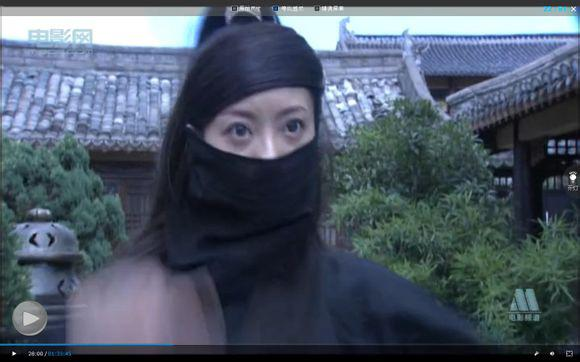WRONG: (208, 98, 322, 212)
